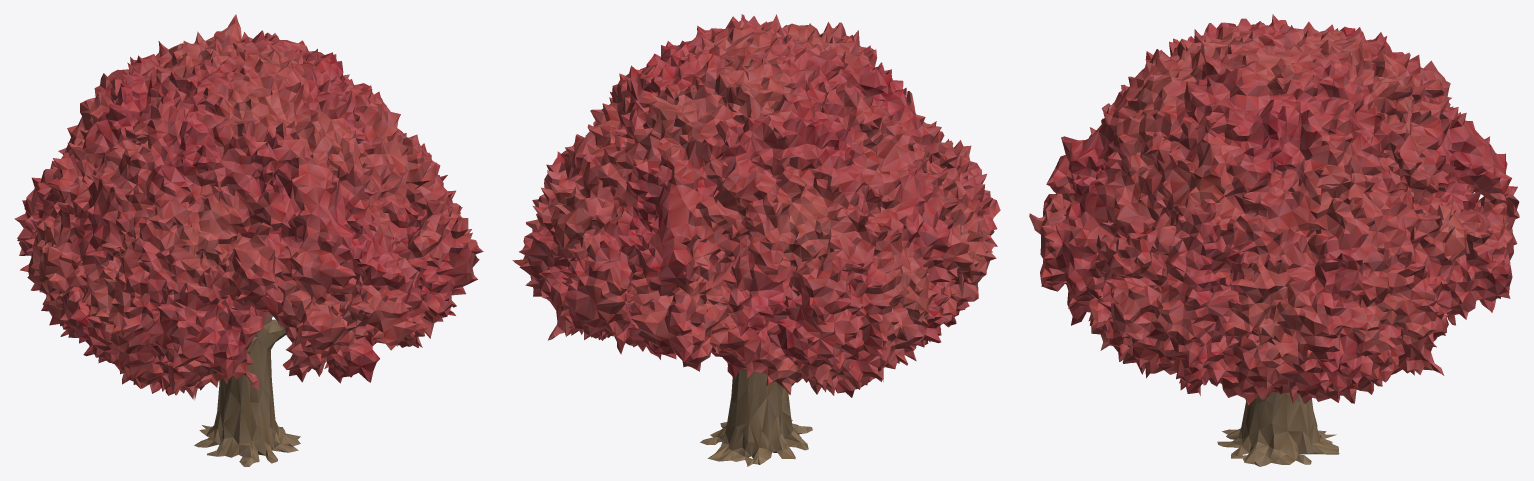
The model's file is maple_tree.glb.
3 views of the same model, side by side, from view 1: azimuth 30°, elevation 25°; view 2: azimuth 150°, elevation 25°; view 3: azimuth 270°, elevation 25° (orthographic). The views are drawn at different scales.
Parts seen in each view (by area): view 1: world; view 2: world; view 3: world.
Boxes of the visible parts, x1,y1,x2,y2 form: world: (14,14,483,466); world: (512,14,1000,466); world: (1029,14,1519,466).
Size of the model in its own units: 3.79 by 3.8 by 4.15.
